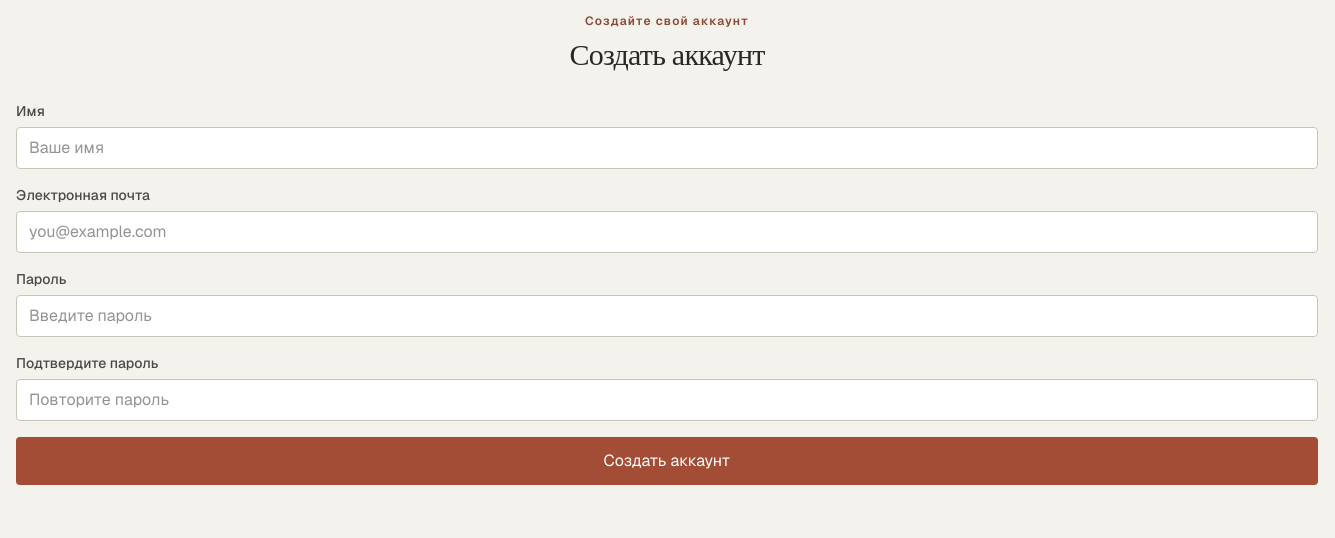
Test: authentication form validation › shows a readable server error when registration fails
Type "Иван" into the field labelled "Имя".
click(667, 148); type("Иван")  # box [16,127,1318,169]
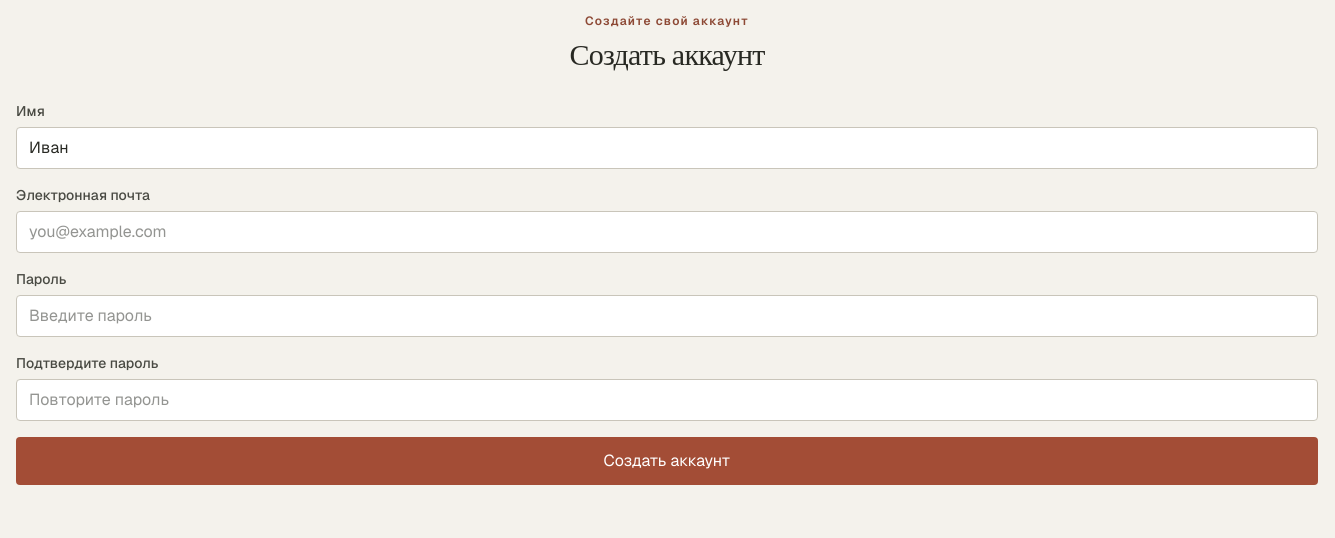
Type "ivan@example.com" into the field labelled "Электронная почта".
click(667, 232); type("ivan@example.com")  # box [16,211,1318,253]
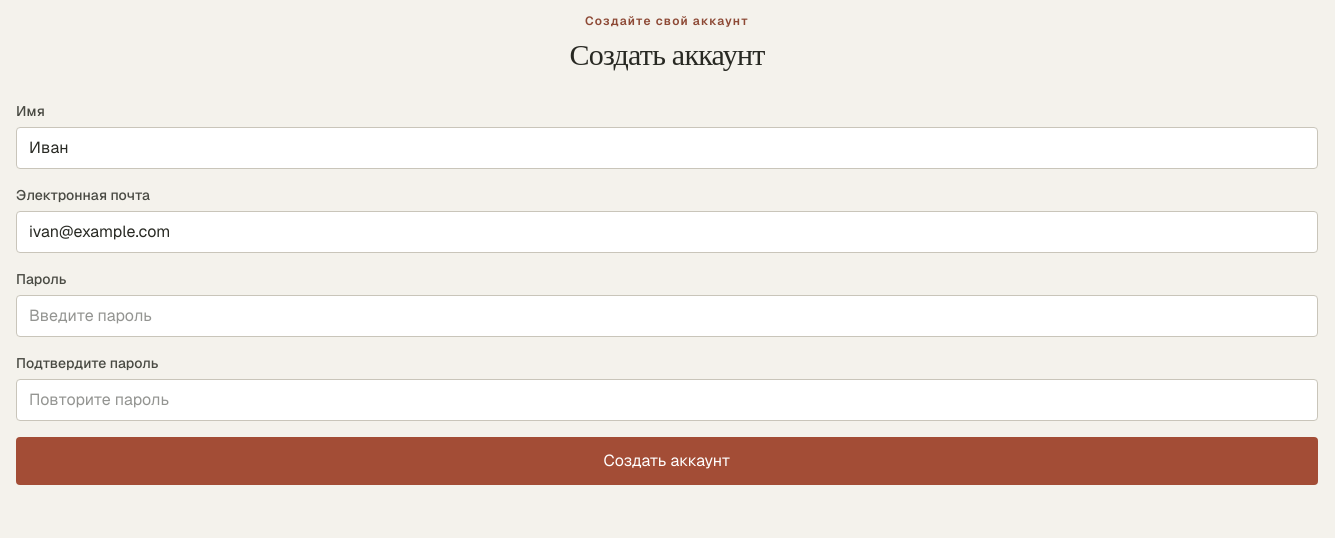
Type "secret1" into the password field labelled "Пароль".
click(667, 316); type("secret1")  # box [16,295,1318,337]
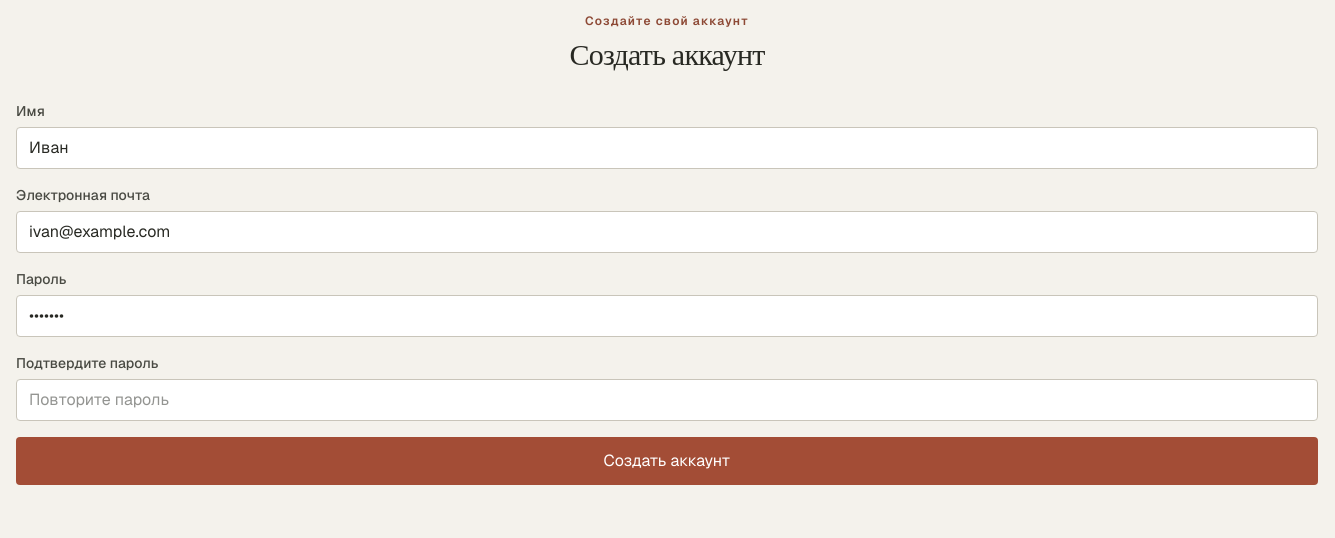
Type "secret1" into the password field labelled "Подтвердите пароль".
click(667, 400); type("secret1")  # box [16,379,1318,421]
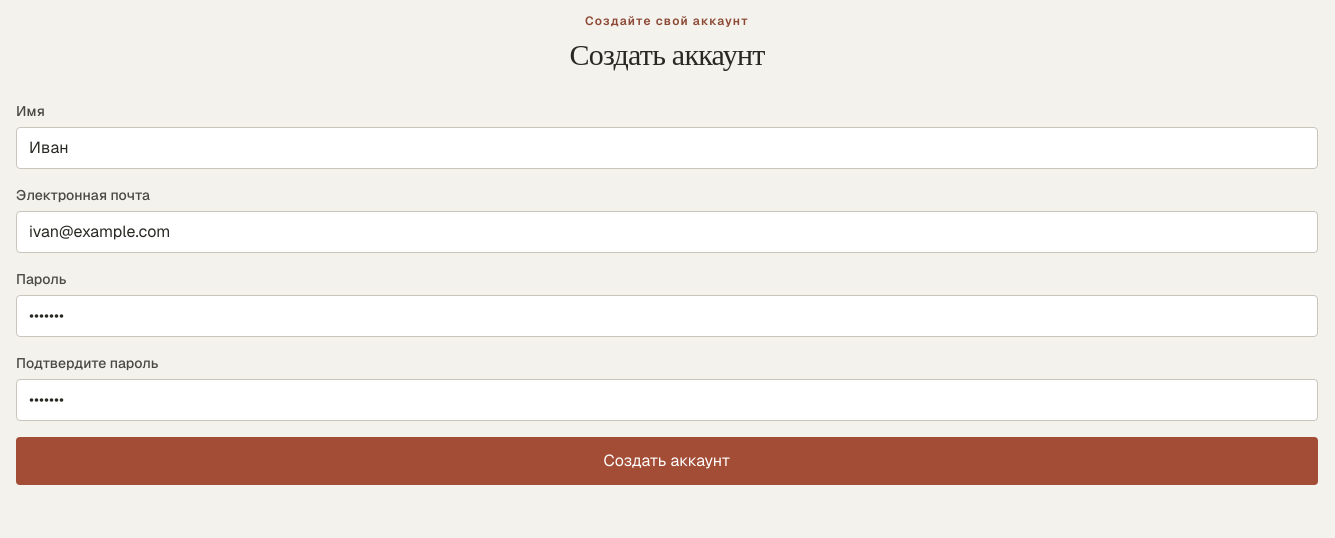
Click the button "Создать аккаунт".
click(667, 461)  # box [16,437,1318,485]
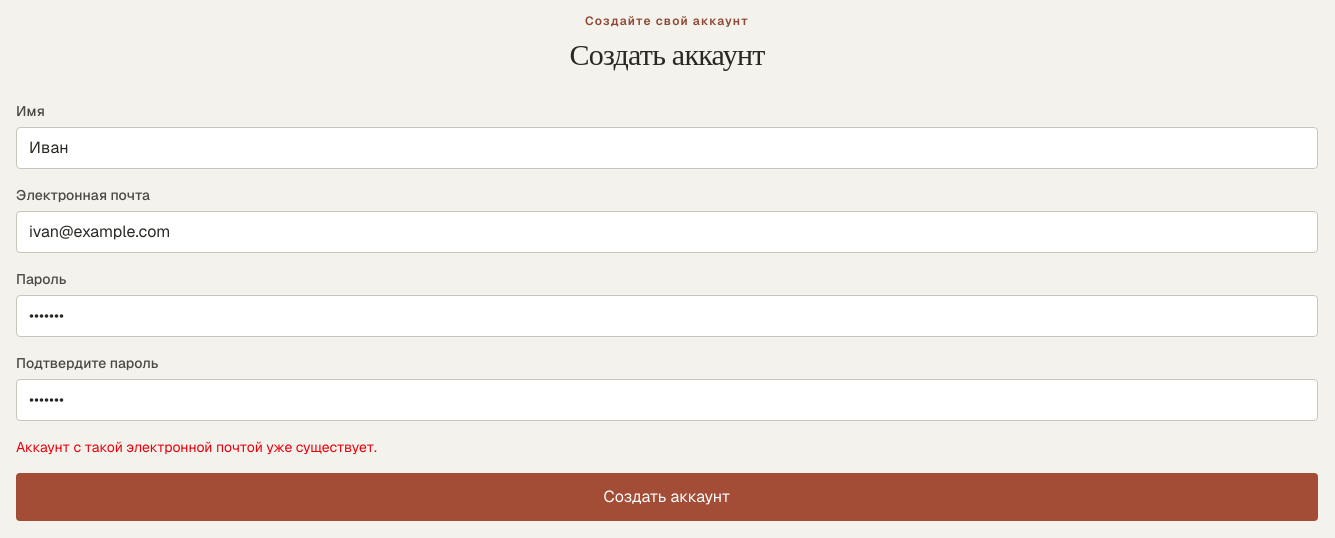
Expected: the message does not show "Raw server conflict message", [16,438,377,456]
Now the message reads "Аккаунт с такой электронной почтой уже существует.", box [16,438,377,456]
